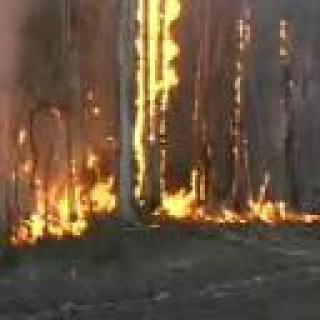fire: (0, 125, 120, 235), (137, 0, 174, 189), (170, 190, 316, 228), (228, 11, 258, 152), (273, 24, 294, 85)
